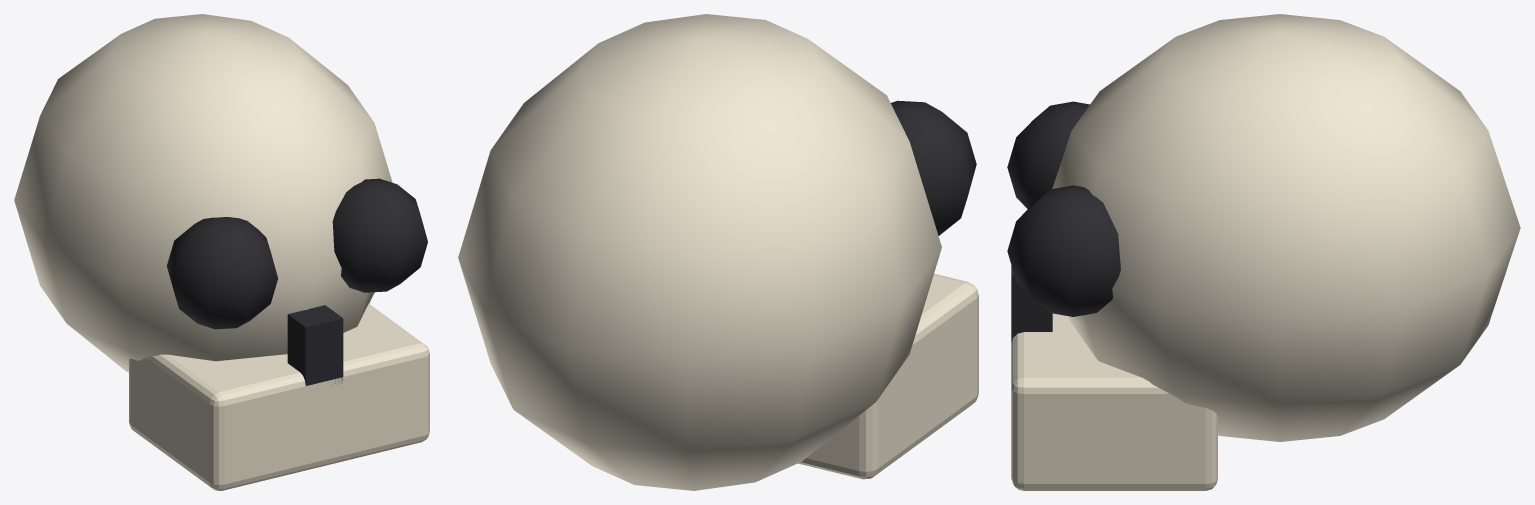
The model's file is skull_jawless.glb.
3 renders of one model, left to right at view 1: azimuth 30°, elevation 25°; view 2: azimuth 150°, elevation 25°; view 3: azimuth 270°, elevation 25°, orthographic. The views are drawn at different scales.
Parts seen in each view (by area): view 1: GD_skull_jawless__m0, GD_skull_jawless__m1; view 2: GD_skull_jawless__m0, GD_skull_jawless__m1; view 3: GD_skull_jawless__m0, GD_skull_jawless__m1.
Boxes of the visible parts, x1,y1,x2,y2 form: GD_skull_jawless__m0: [14, 14, 429, 490]; GD_skull_jawless__m1: [167, 178, 427, 385]; GD_skull_jawless__m0: [458, 14, 978, 490]; GD_skull_jawless__m1: [891, 100, 976, 235]; GD_skull_jawless__m0: [1011, 14, 1520, 490]; GD_skull_jawless__m1: [1007, 101, 1120, 342].
Bounding box in the file's own units: 0.1248 × 0.1284 × 0.1491.
